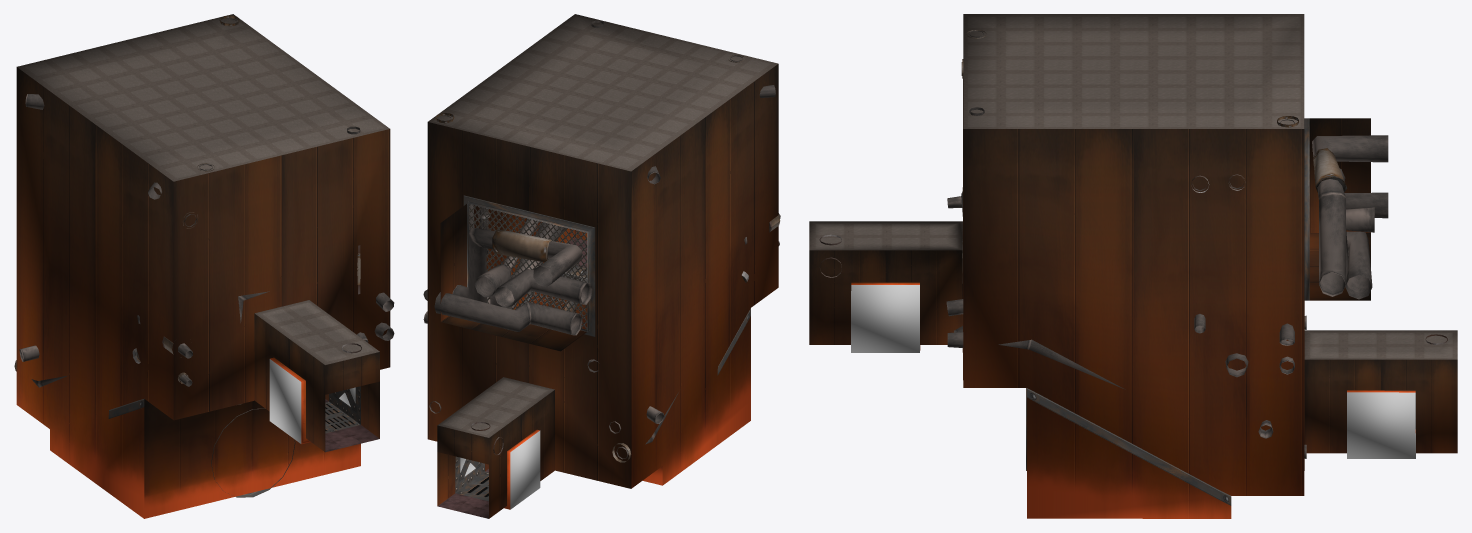
Rendered from molten_connector_up.fbx.
3 views of the same model, side by side, from view 1: azimuth 30°, elevation 25°; view 2: azimuth 150°, elevation 25°; view 3: azimuth 270°, elevation 25° (orthographic). The views are drawn at different scales.
Visible parts, largest first — view 1: Walls, Pipes, Bearings; view 2: Walls, Pipes, GatedWindow, Bearings, Bridge; view 3: Walls, Pipes, Bridge, Bearings.
Part boxes in pixels (bbox=[...]): Walls: bbox=[16, 14, 390, 518]; Pipes: bbox=[19, 18, 394, 387]; Bearings: bbox=[14, 15, 361, 405]; Walls: bbox=[427, 14, 778, 518]; Pipes: bbox=[423, 20, 780, 459]; GatedWindow: bbox=[469, 204, 587, 329]; Bearings: bbox=[435, 55, 780, 462]; Bridge: bbox=[521, 265, 750, 375]; Walls: bbox=[809, 14, 1457, 518]; Pipes: bbox=[946, 30, 1388, 458]; Bridge: bbox=[1027, 388, 1231, 505]; Bearings: bbox=[819, 30, 1447, 344].
Bounding box in the file's own units: 2034 × 2916 × 4297.
